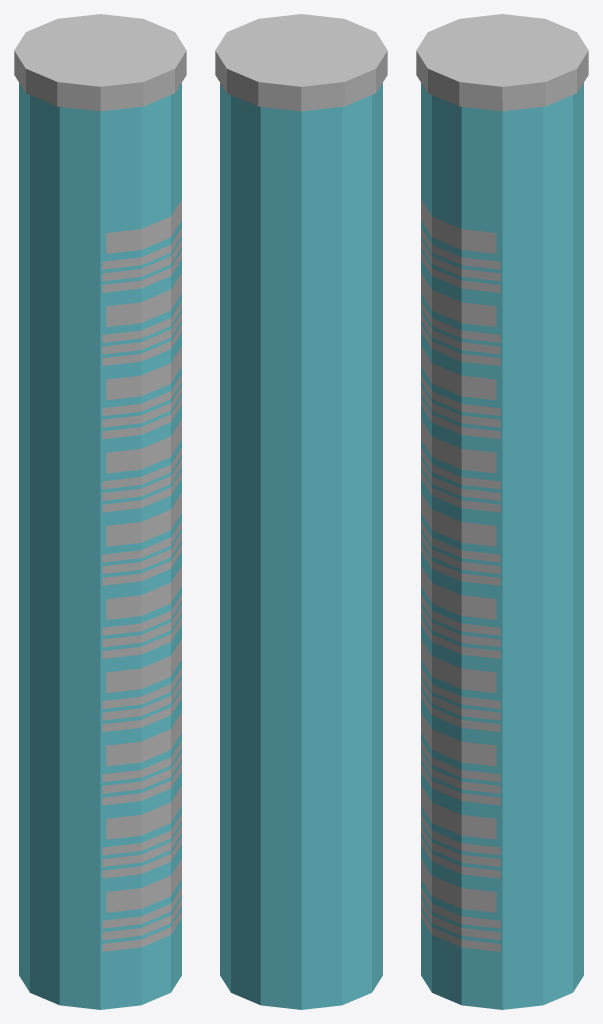
The model's file is SM_Medicine_Glass_01.gltf.
3 renders of one model, left to right at view 1: azimuth 30°, elevation 25°; view 2: azimuth 150°, elevation 25°; view 3: azimuth 270°, elevation 25°, orthographic.
Parts seen in each view (by area): view 1: SM_Medicine_Glass_01, SM_Medicine_Glass_Lid_01; view 2: SM_Medicine_Glass_01, SM_Medicine_Glass_Lid_01; view 3: SM_Medicine_Glass_01, SM_Medicine_Glass_Lid_01.
Boxes of the visible parts, box(x1,y1,x2,y2) form: SM_Medicine_Glass_01: box(19, 83, 181, 1009); SM_Medicine_Glass_Lid_01: box(14, 14, 186, 111); SM_Medicine_Glass_01: box(220, 83, 382, 1009); SM_Medicine_Glass_Lid_01: box(215, 14, 387, 111); SM_Medicine_Glass_01: box(421, 83, 583, 1009); SM_Medicine_Glass_Lid_01: box(416, 14, 588, 111).
Bounding box in the file's own units: 0.0387 × 0.229 × 0.0387.
